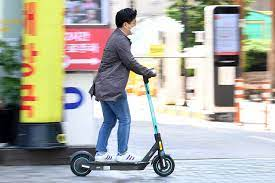kick_neck: (144, 86, 164, 149)
kick_wheel: (68, 152, 92, 177), (153, 155, 175, 176)
